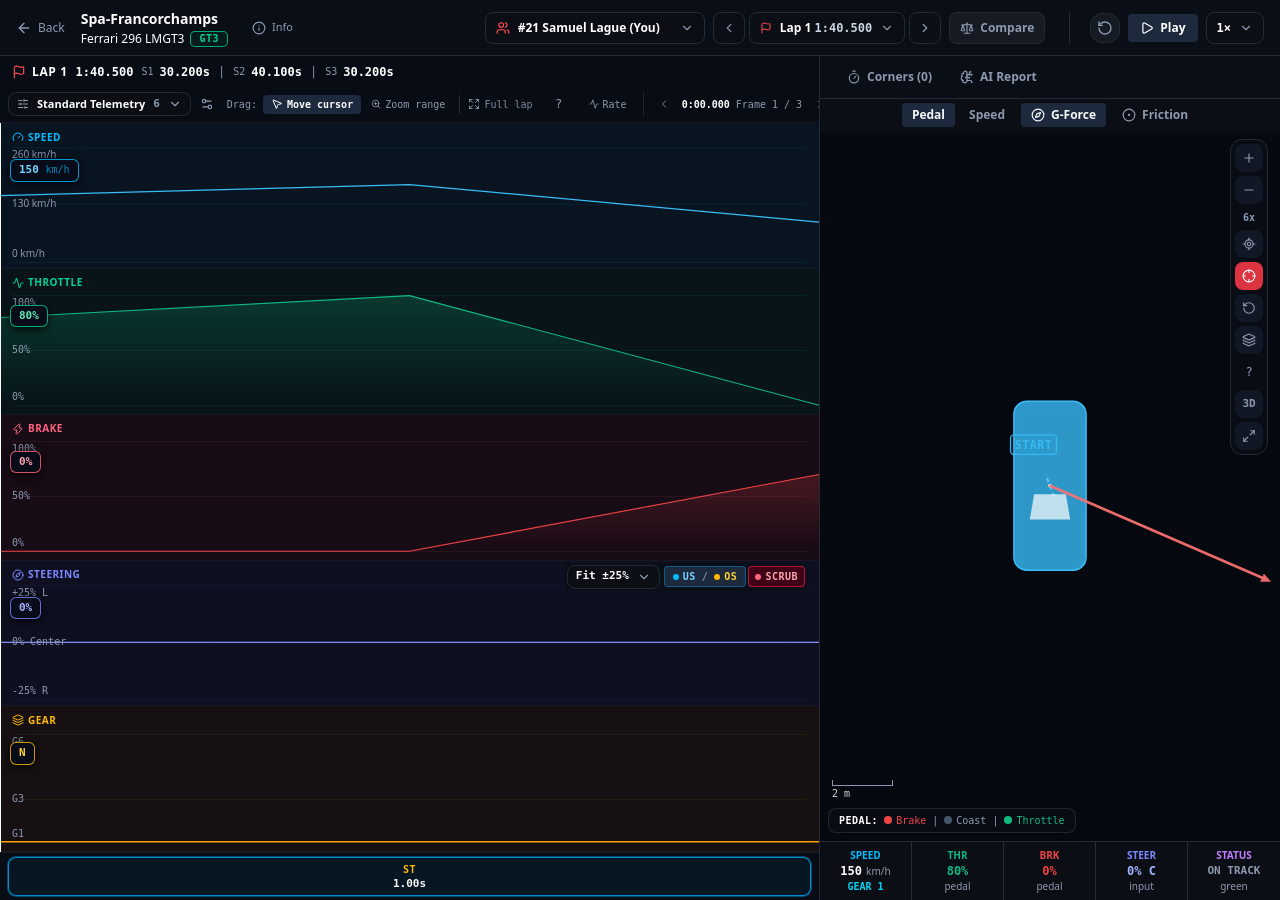
it: ReplayInspectorModal › toggles compare mode and allows comparing with a baseline lap
This screenshot has width=1280, height=900.
Note: Find and click the Compare button
What coordinates should you click on to do the following:
click the button "Compare"
I would click on:
 (997, 28)
Its box is [949,12,1045,44].
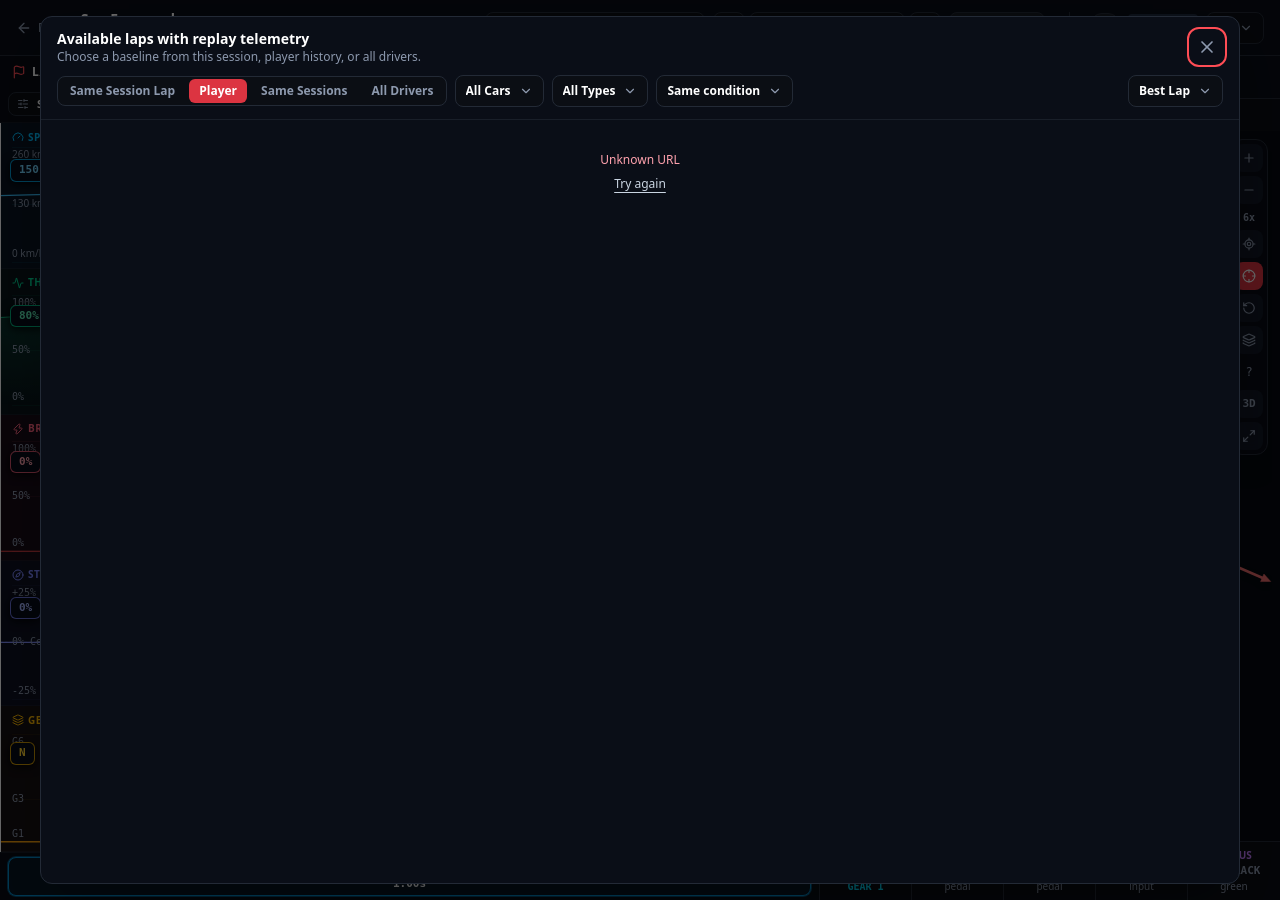
Expected: the text "Available laps with replay telemetry" is shown, [57,29,309,48]
